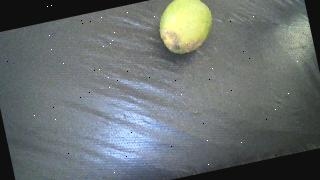DESECHO: (153, 0, 218, 57)
